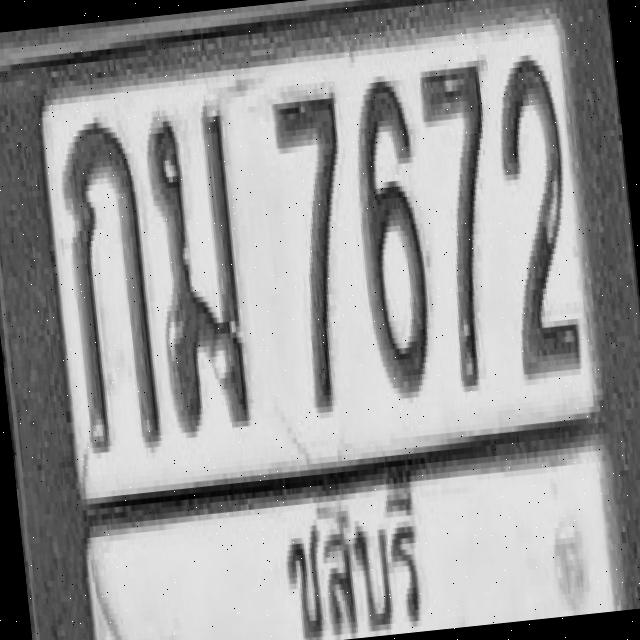10GorGai: (56, 114, 163, 454)
2: (490, 52, 582, 374)
42MorMa: (143, 104, 255, 433)
6: (346, 73, 437, 394)
7: (270, 84, 366, 412), (417, 60, 511, 388)
Chonburi: (270, 472, 432, 640)
